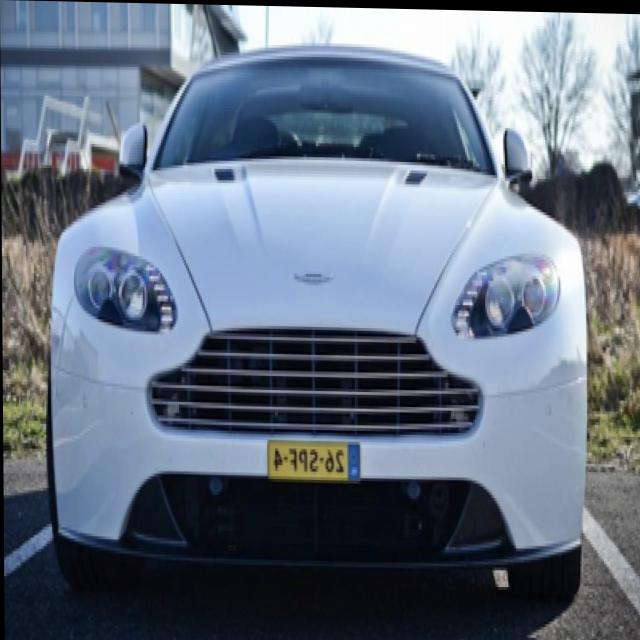licence: (257, 424, 364, 490)
